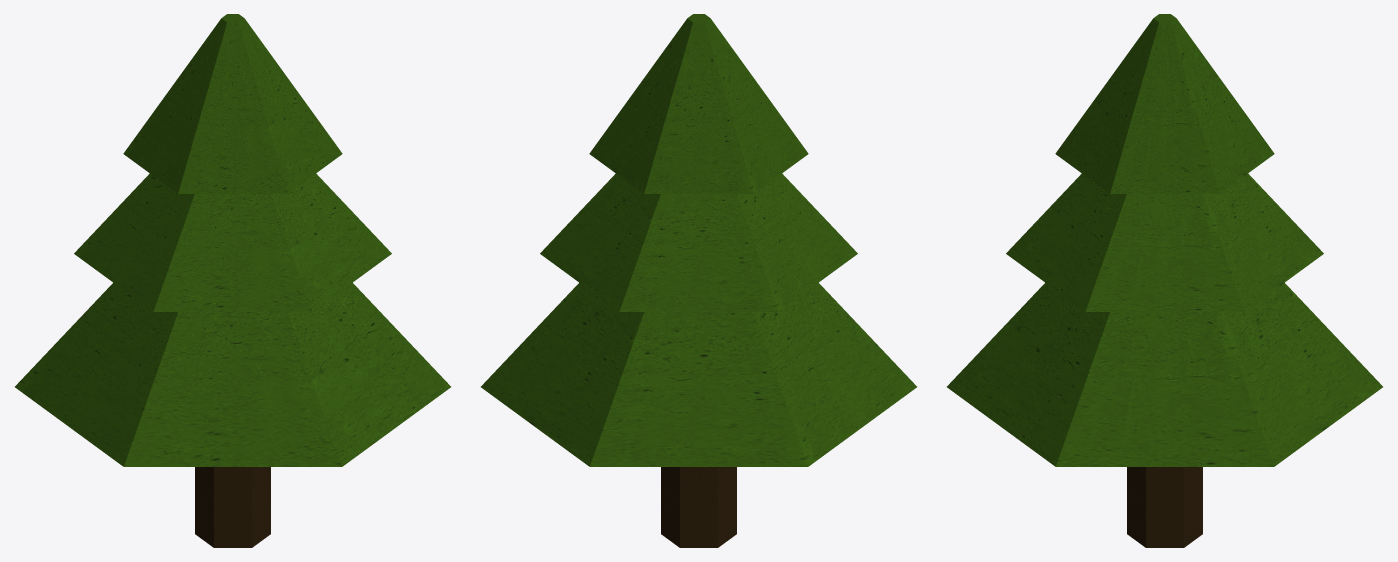
File: fir_tree_advanced.obj
3 renders of one model, left to right at view 1: azimuth 30°, elevation 25°; view 2: azimuth 150°, elevation 25°; view 3: azimuth 270°, elevation 25°, orthographic.
Parts seen in each view (by area): view 1: fir_tree; view 2: fir_tree; view 3: fir_tree.
Boxes of the visible parts, x1,y1,x2,y2 form: fir_tree: [15, 14, 450, 547]; fir_tree: [481, 14, 916, 547]; fir_tree: [947, 14, 1382, 547].
Bounding box in the file's own units: 5.96 × 8.96 × 6.88.
